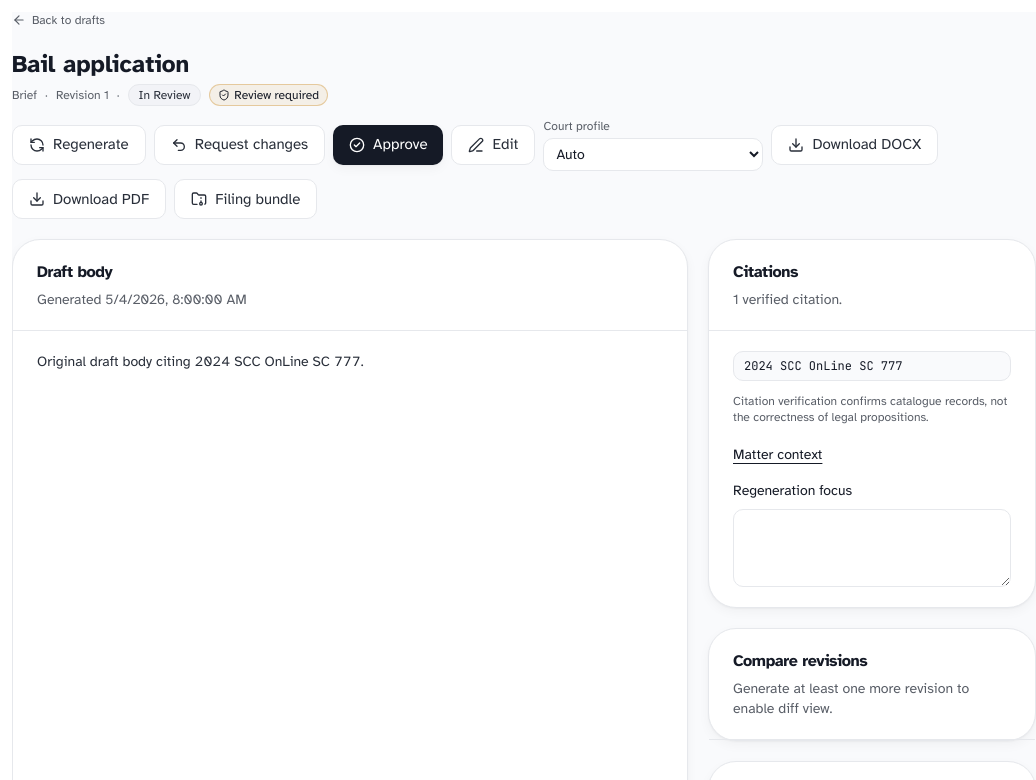
Test: MatterDraftDetailPage › B3-DRAFT-04: a rejected stale-tab approval reloads the authoritative current revision
Step 1. Click the button with test id "draft-approve" → (388, 144), box top-left (333, 124), bottom-right (444, 164)
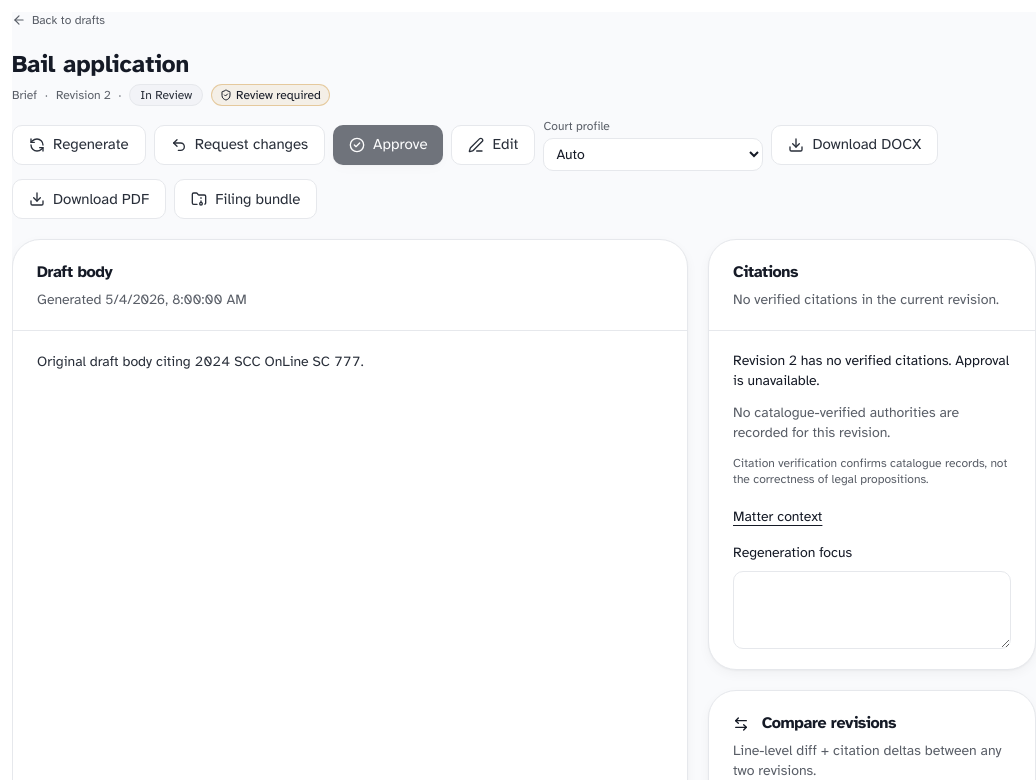
Result: the text with test id "draft-current-revision" reads "Revision 2" at top-left (56, 88), bottom-right (110, 102)
Result: the button with test id "draft-approve" is disabled at top-left (333, 124), bottom-right (444, 164)
Result: the message with test id "draft-citation-status" shows "Revision 2 has no verified citations" at top-left (733, 351), bottom-right (1011, 391)
